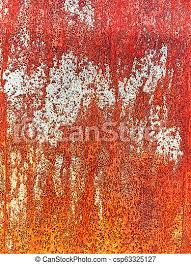rust: (1, 1, 191, 254)
